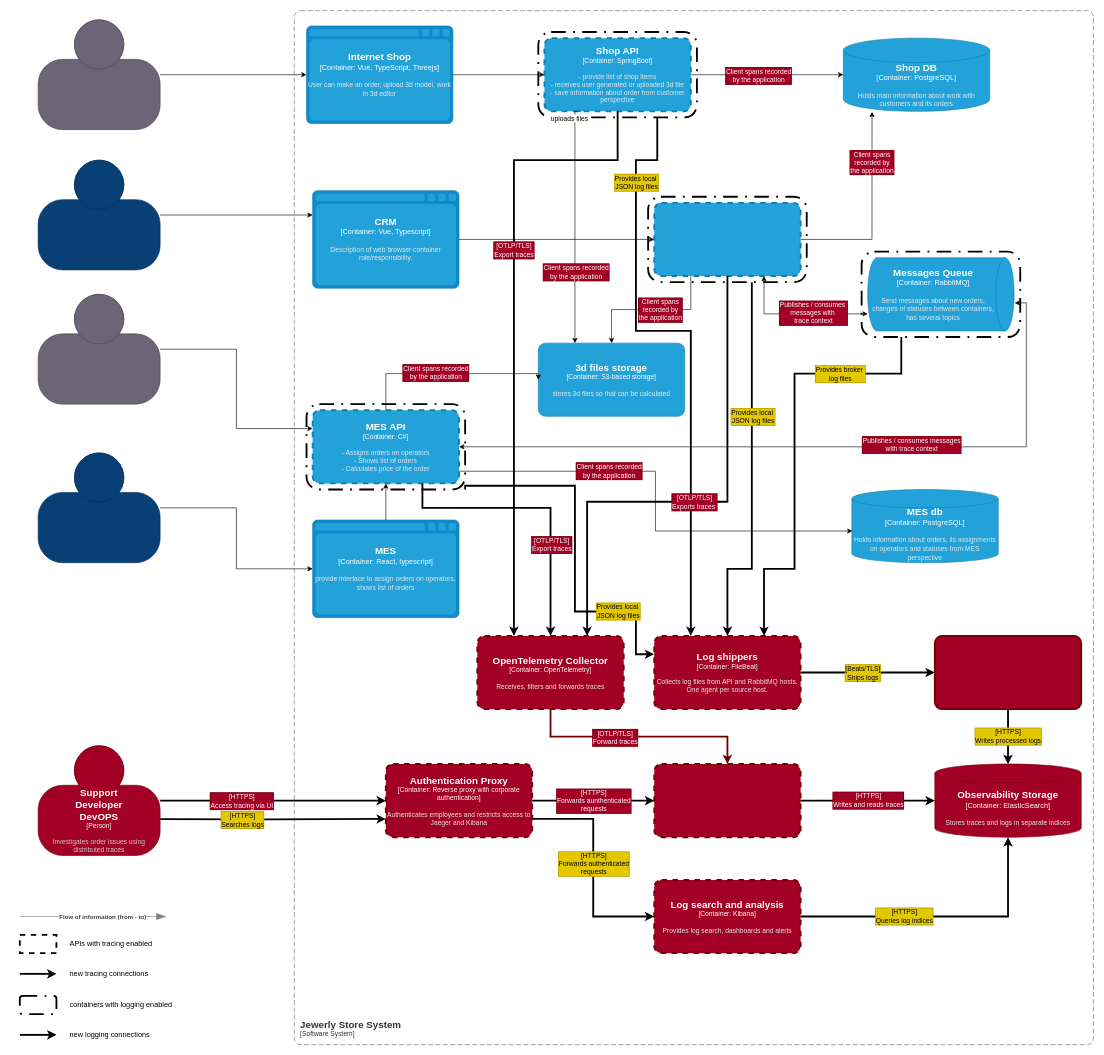
The diagram is 1104 pixels wide and 1055 high, and some of its shapes have lost their labels. The shapes that lost their labels are listed below. From the top down, each one's box as (x1, y1, x2, y2) in pixels, then its label:
(38, 19, 160, 130): Customer [Person] Description of external person.
(38, 160, 160, 270): Seller [Person] Operates with order, confirms manufacturing for the user
(653, 202, 801, 277): CRM API [Container: SpringBoot] Description of container role/responsibility.
(38, 294, 160, 404): API user [Person] Description of external person.
(38, 452, 160, 563): Operator [Person] Takes order in work, manufactures jewerly
(934, 635, 1082, 710): Log Processing [Container: LogStash] Parses, filters and routes logs
(653, 763, 801, 838): Jaeger [Container: Jaeger] Collects traces and provides search and visualization
